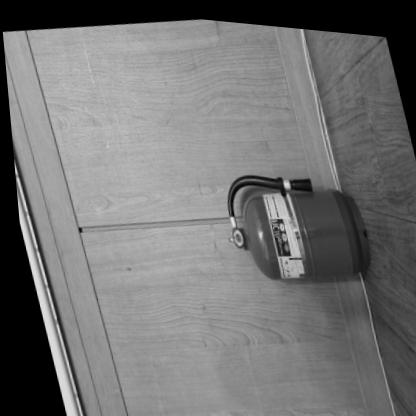FE: (212, 151, 373, 289)
